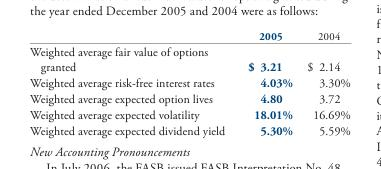table: (28, 29, 349, 138)
table column: (28, 29, 235, 138), (235, 29, 299, 138), (299, 29, 349, 138)
table column header: (28, 29, 349, 43)
table row: (28, 43, 349, 74), (28, 74, 349, 90), (28, 90, 349, 106), (28, 106, 349, 122), (28, 122, 349, 138), (28, 29, 349, 43)
